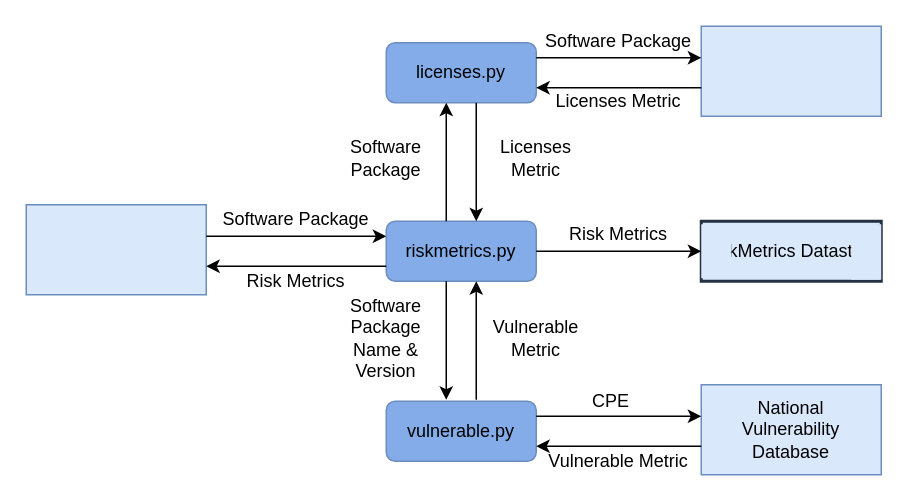
Image size: 909x503. Some labels were removed from this diagram. Each missing label, with the centre of its shape:
"GHData" goes at (115,249).
"Nomos File Scanner" goes at (790,70).
